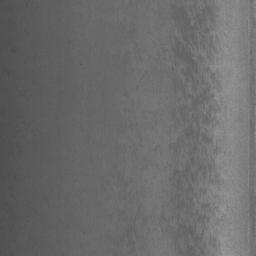Silk spot: (169, 38, 224, 209), (172, 0, 218, 61), (172, 200, 211, 256), (117, 224, 136, 245), (169, 138, 184, 154), (209, 235, 220, 251), (128, 240, 136, 254)
